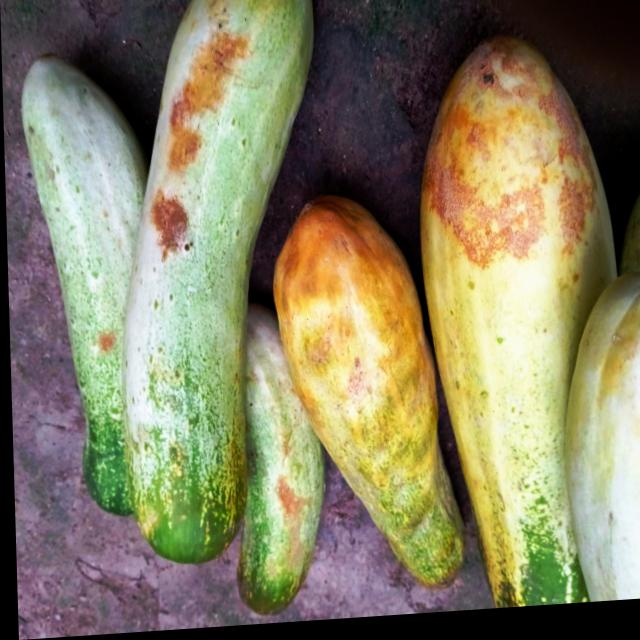Belly-Rot: (413, 36, 607, 287), (155, 9, 253, 180), (141, 186, 196, 274), (268, 474, 314, 541), (92, 324, 117, 364)
